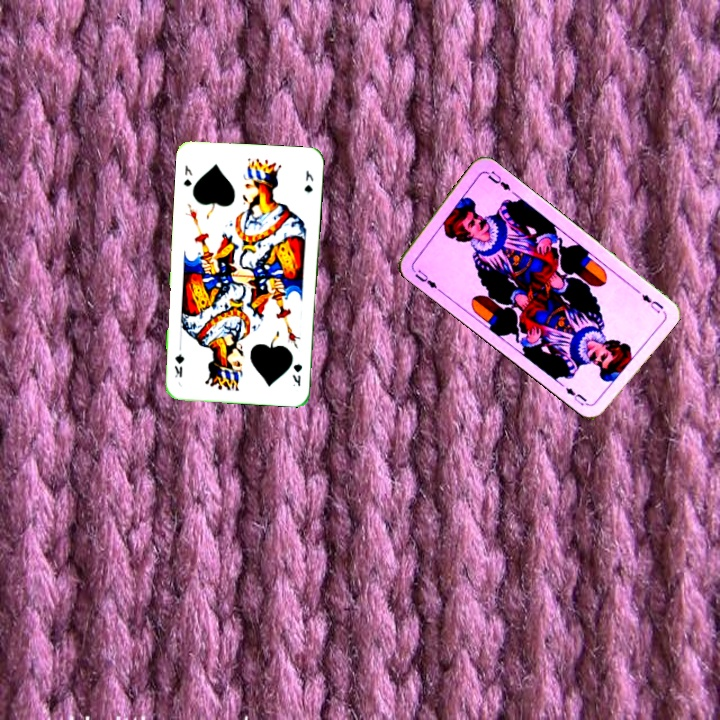EU: (408, 264, 443, 294), (637, 290, 666, 316)
GK: (288, 360, 305, 389), (179, 161, 195, 189)
